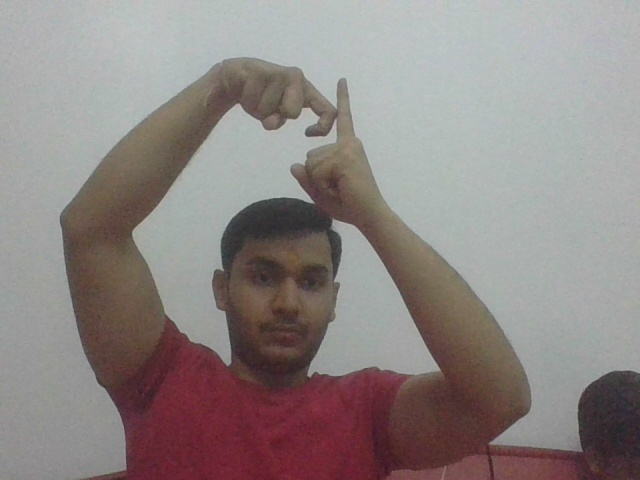K: (277, 64, 362, 161)
